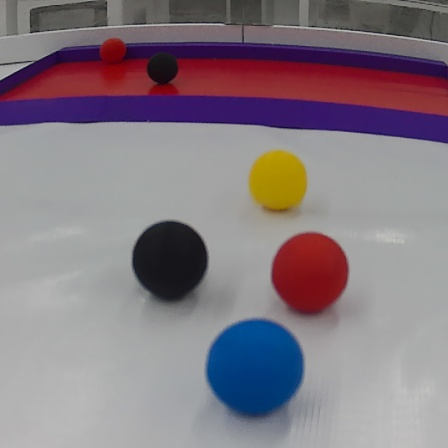black: (129, 216, 213, 305), (146, 48, 181, 85)
blue: (198, 317, 312, 421)
red: (269, 231, 354, 311), (98, 35, 130, 65)
red_aim: (3, 40, 448, 149)
yellow: (247, 146, 308, 216)
